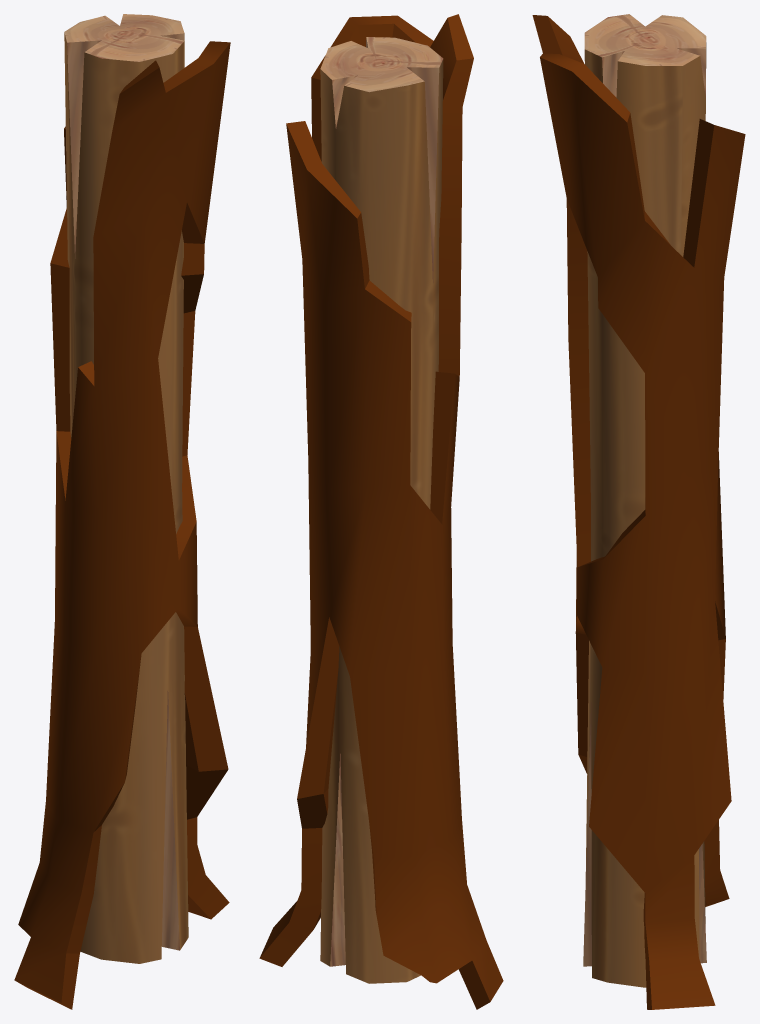
File: obj_harvest_log_s01.fbx
The picture shows the model from 3 angles, left to right: view 1: azimuth 30°, elevation 25°; view 2: azimuth 150°, elevation 25°; view 3: azimuth 270°, elevation 25°; orthographic projection. The views are drawn at different scales.
Parts seen in each view (by area): view 1: obj_harvest_log_s01; view 2: obj_harvest_log_s01; view 3: obj_harvest_log_s01.
Boxes of the visible parts, x1,y1,x2,y2 form: obj_harvest_log_s01: (14,14,230,1009); obj_harvest_log_s01: (259,14,503,1009); obj_harvest_log_s01: (532,14,745,1009).
Size of the model in its own units: 2.01 by 8.44 by 1.67.
